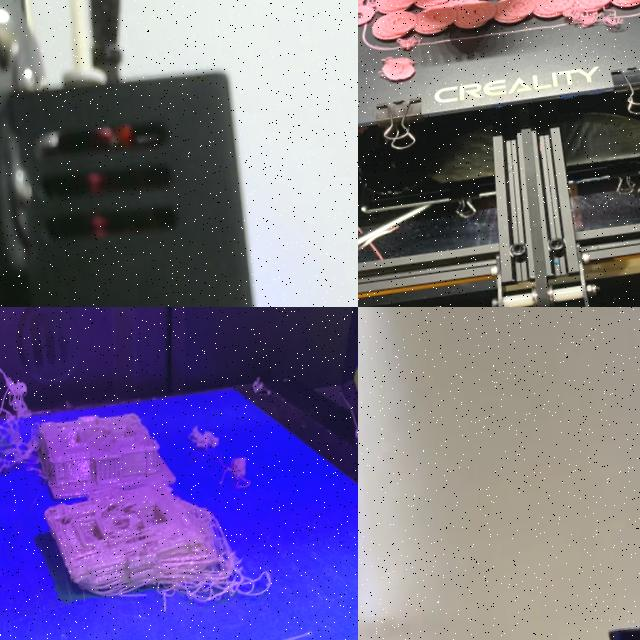spaghetti: (133, 500, 283, 614), (0, 365, 49, 501), (182, 412, 261, 496)
